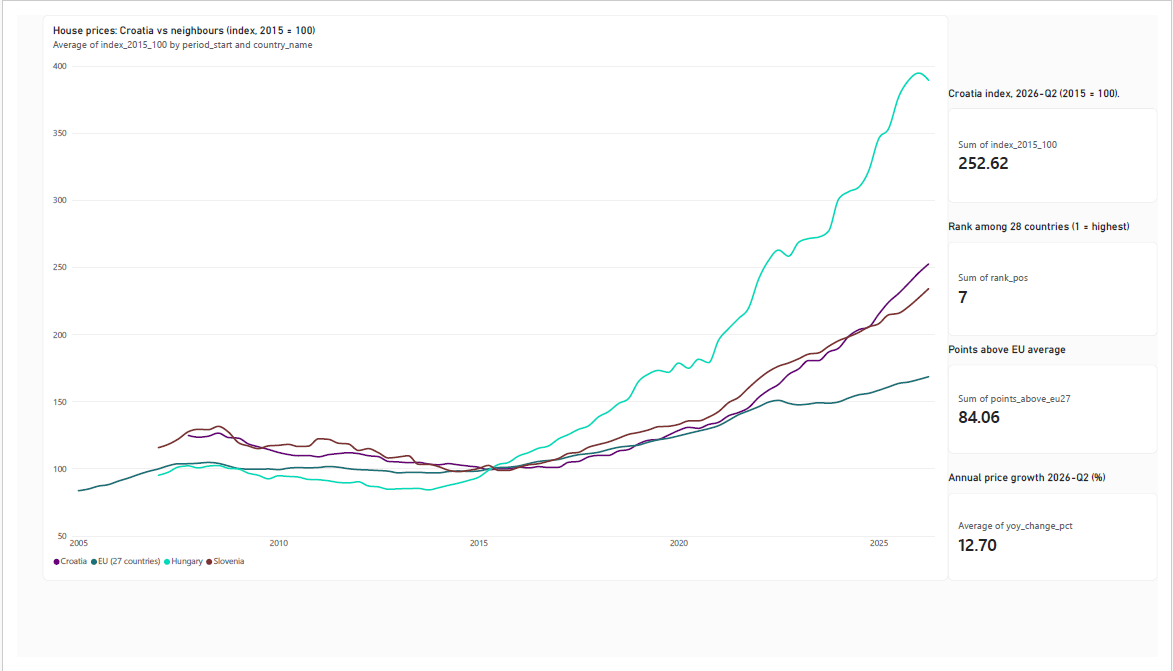

The dashboard page shown, as its layout file describes it:
{"tool":"powerbi","page":{"name":"0verview","canvas":[1920,1080],"ordinal":0},"visuals":[{"type":"lineChart","title":"House prices: Croatia vs neighbours (index, 2015 = 100)","fields":{"Category":["public v_hpi_quarterly.period_start"],"Series":["public v_hpi_quarterly.country_name"],"Y":["Avg(public v_hpi_quarterly.index_2015_100)"]},"box":[43.3,0,1525,951.7],"z":0},{"type":"cardVisual","title":"Croatia index, 2026-Q2 (2015 = 100).","fields":{"Data":["Sum(public v_latest_ranking.index_2015_100)"]},"box":[1568.3,120,351.7,195],"z":2000},{"type":"cardVisual","title":"Points above EU average","fields":{"Data":["Sum(public v_latest_ranking.points_above_eu27)"]},"box":[1568.3,551.7,351.7,186.7],"z":5000},{"type":"cardVisual","title":"Annual price growth 2026-Q2 (%)","fields":{"Data":["Avg(public v_hpi_quarterly.yoy_change_pct)"]},"box":[1568.3,768.3,351.7,183.3],"z":5001},{"type":"cardVisual","title":"Rank among 28 countries (1 = highest)","fields":{"Data":["Sum(public v_latest_ranking.rank_pos)"]},"box":[1568.3,345,351.7,195],"z":5002}]}

Visuals, with their boxes in screenshot pixels (x1, y1, x2, y2), scaled from the page's 1920x1080 canvas onto the 1173x671 screenshot:
"House prices: Croatia vs neighbours (index, 2015 = 100)" lineChart: <region>26, 0, 958, 591</region>
"Croatia index, 2026-Q2 (2015 = 100)." cardVisual: <region>958, 75, 1172, 196</region>
"Points above EU average" cardVisual: <region>958, 343, 1172, 459</region>
"Annual price growth 2026-Q2 (%)" cardVisual: <region>958, 477, 1172, 591</region>
"Rank among 28 countries (1 = highest)" cardVisual: <region>958, 214, 1172, 336</region>
